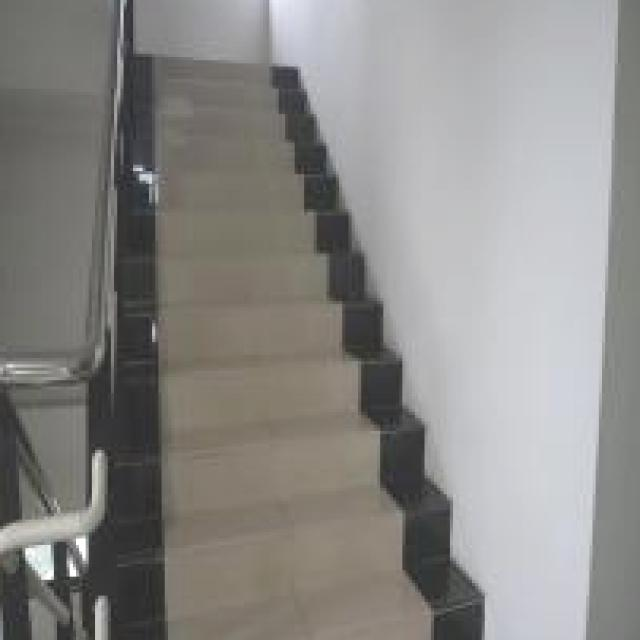upstair: (131, 156, 327, 606)
